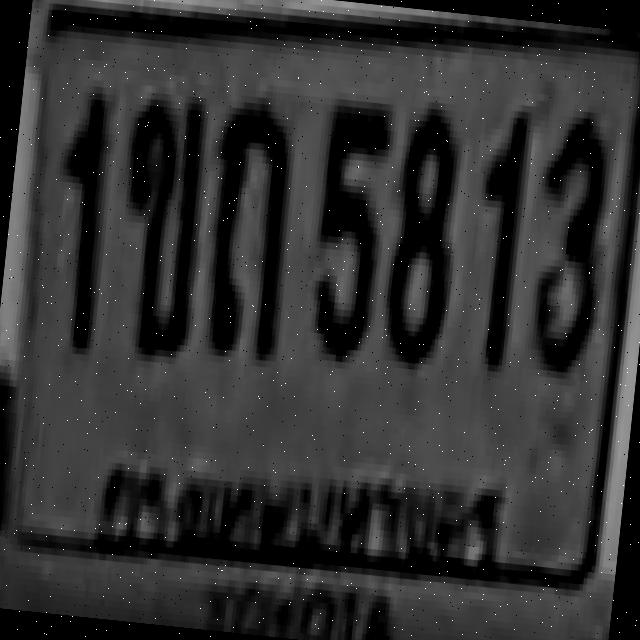1: (42, 84, 112, 348), (464, 105, 528, 362)
11KhorKhai: (105, 87, 208, 355)
3: (522, 108, 612, 368)
31ThorThung: (195, 93, 298, 354)
5: (300, 94, 388, 360)
8: (378, 100, 462, 358)
Bangkok: (89, 419, 516, 596)
